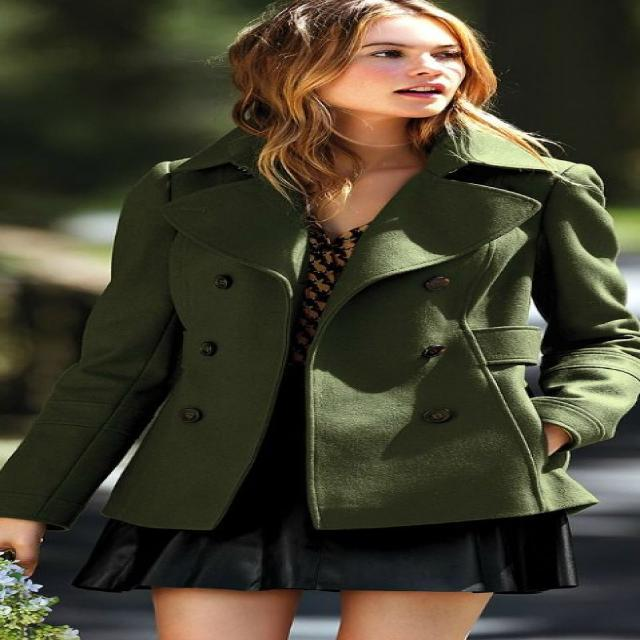coat: (0, 108, 640, 533)
skirt: (70, 375, 582, 601)
vest: (282, 208, 373, 369)
